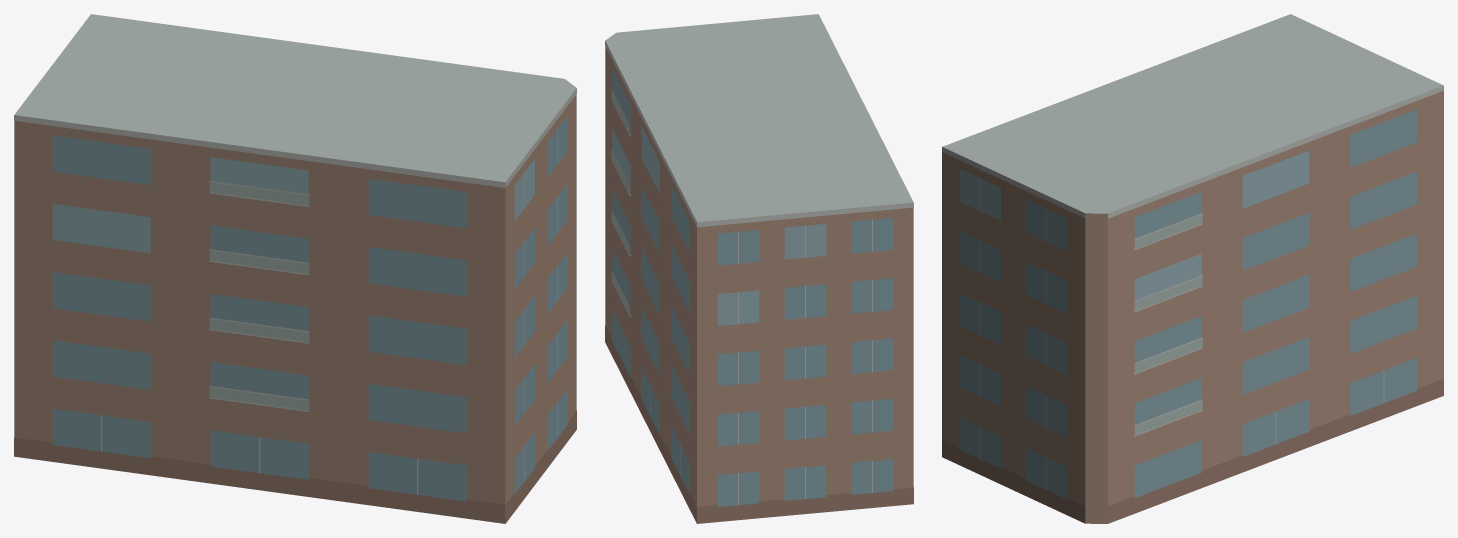
File: survey-upis-32797391.glb
3 renders of one model, left to right at view 1: azimuth 30°, elevation 25°; view 2: azimuth 150°, elevation 25°; view 3: azimuth 270°, elevation 25°, orthographic. The views are drawn at different scales.
Visible parts, largest first — view 1: survey-upis-32797391.tmp; view 2: survey-upis-32797391.tmp; view 3: survey-upis-32797391.tmp.
Boxes of the visible parts, x1=… form: survey-upis-32797391.tmp: x1=14, y1=14, x2=576, y2=523; survey-upis-32797391.tmp: x1=605, y1=14, x2=913, y2=523; survey-upis-32797391.tmp: x1=942, y1=14, x2=1443, y2=523.
Bounding box in the file's own units: 20.14 × 14.6 × 21.4.
